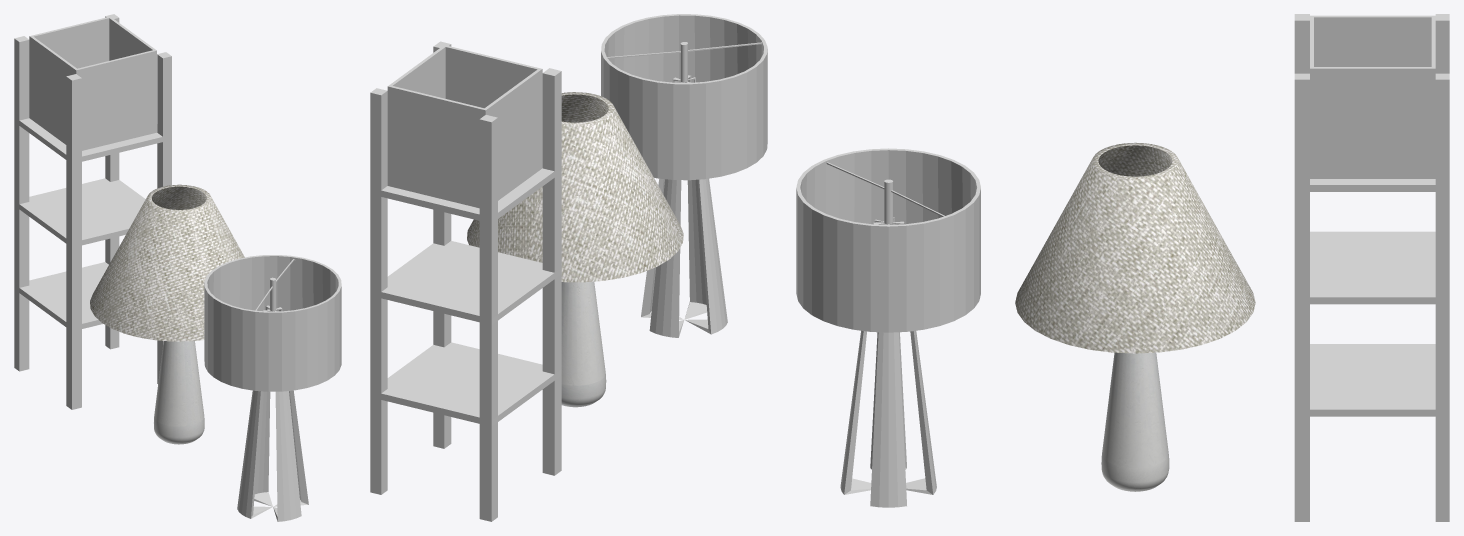
File: Lamp.fbx
3 views of the same model, side by side, from view 1: azimuth 30°, elevation 25°; view 2: azimuth 150°, elevation 25°; view 3: azimuth 270°, elevation 25° (orthographic). The views are drawn at different scales.
Visible parts, largest first — view 1: SquareStand, SmallStand, CircleShader, SquareShader, WeirdCylinderStand; view 2: SquareStand, SmallStand, CircleShader, SquareShader, WeirdCylinderStand; view 3: SmallStand, SquareStand, CircleShader, SquareShader, WeirdCylinderStand.
Boxes of the visible parts, x1=… form: SquareStand: x1=14, y1=14, x2=171, y2=409; SmallStand: x1=90, y1=184, x2=244, y2=444; CircleShader: x1=204, y1=255, x2=341, y2=391; SquareShader: x1=29, y1=16, x2=156, y2=150; WeirdCylinderStand: x1=237, y1=259, x2=308, y2=521; SquareStand: x1=370, y1=41, x2=561, y2=521; SmallStand: x1=467, y1=92, x2=683, y2=407; CircleShader: x1=601, y1=14, x2=767, y2=180; SquareShader: x1=387, y1=45, x2=542, y2=208; WeirdCylinderStand: x1=607, y1=42, x2=761, y2=337; SmallStand: x1=1015, y1=142, x2=1255, y2=491; SquareStand: x1=1294, y1=14, x2=1449, y2=521; CircleShader: x1=796, y1=148, x2=980, y2=332; SquareShader: x1=1310, y1=15, x2=1435, y2=178; WeirdCylinderStand: x1=826, y1=162, x2=944, y2=507.
Bounding box in the file's own units: 621 × 1274 × 1686.
